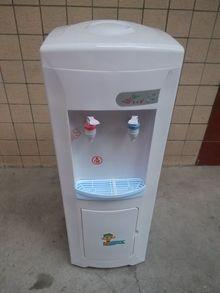Dispenser: (38, 18, 184, 268)
